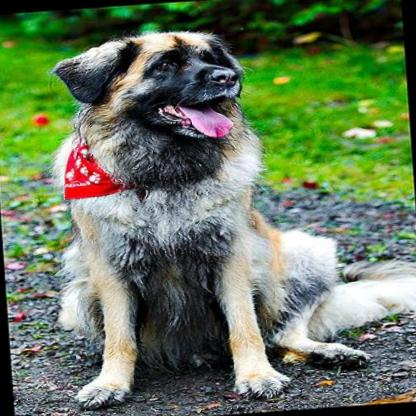Leonberg: (36, 8, 416, 411)
